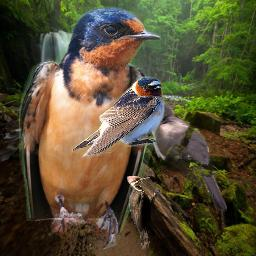Cuckoo: (129, 96, 227, 213)
Swallow: (19, 6, 161, 251), (71, 76, 165, 159)
Woodpecker: (127, 176, 160, 250)
